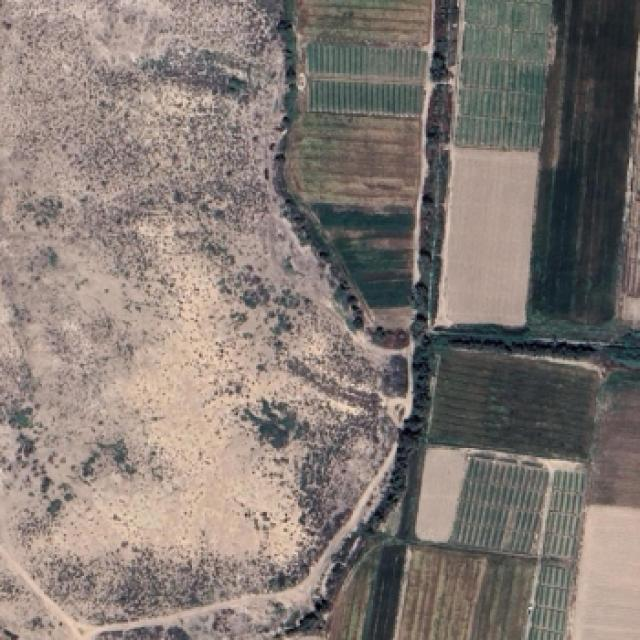ruins: (468, 357, 596, 450), (462, 60, 541, 120), (434, 364, 497, 439), (419, 562, 479, 635), (321, 5, 431, 40)
